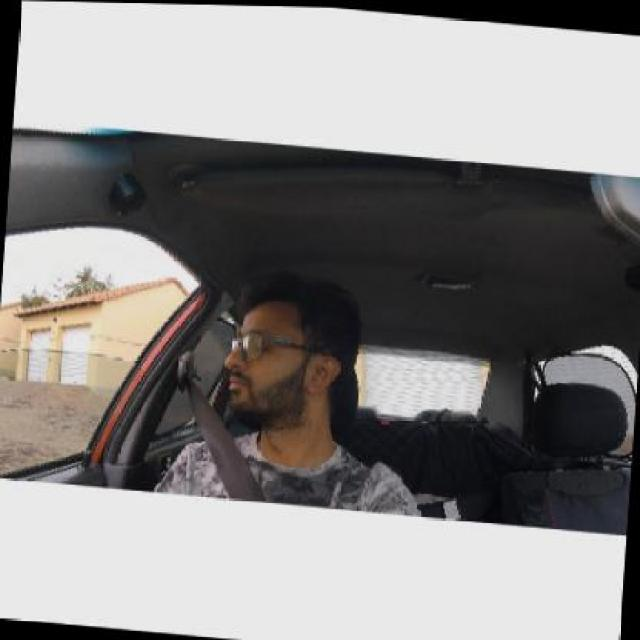LeftRight: (217, 280, 360, 438)
